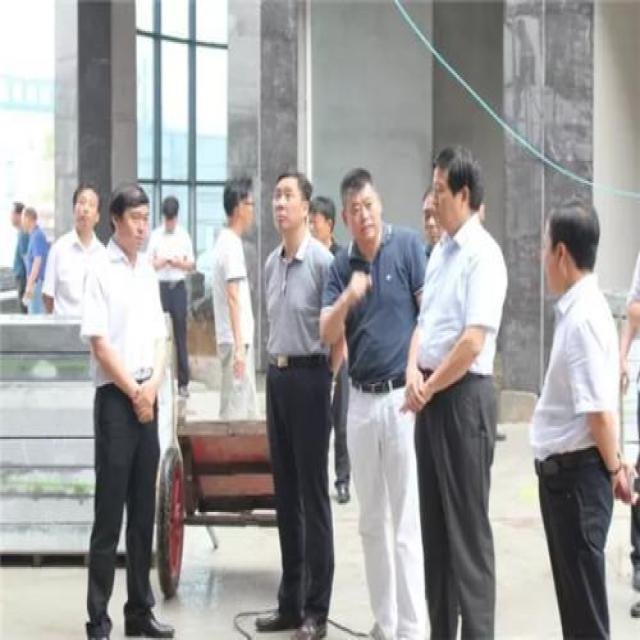no-helmet: (540, 196, 603, 294), (428, 146, 482, 240), (338, 161, 384, 252), (267, 166, 315, 242), (108, 179, 152, 251), (221, 173, 256, 240), (304, 190, 340, 254), (65, 181, 100, 241), (416, 185, 443, 252), (158, 192, 180, 236)
